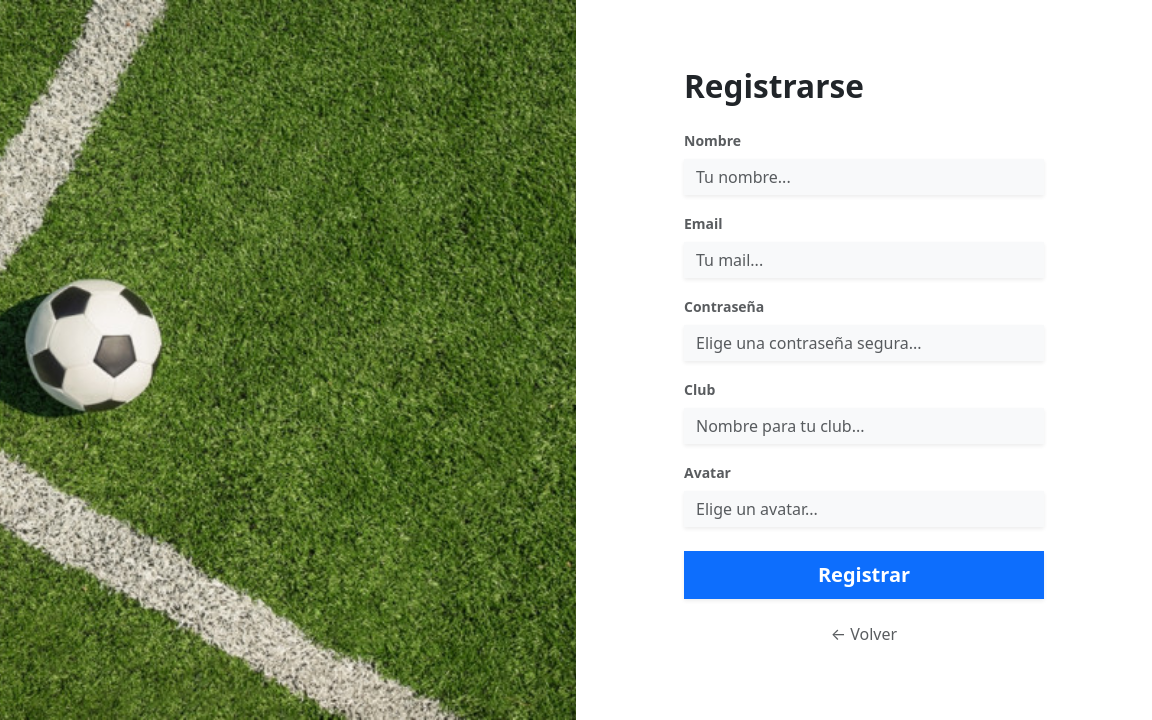
Test: FormRegistro › registra correctamente un usuario
This screenshot has width=1152, height=720.
Type "Joel" into the field labelled "Nombre" at x=864, y=177, box [684, 159, 1044, 195]
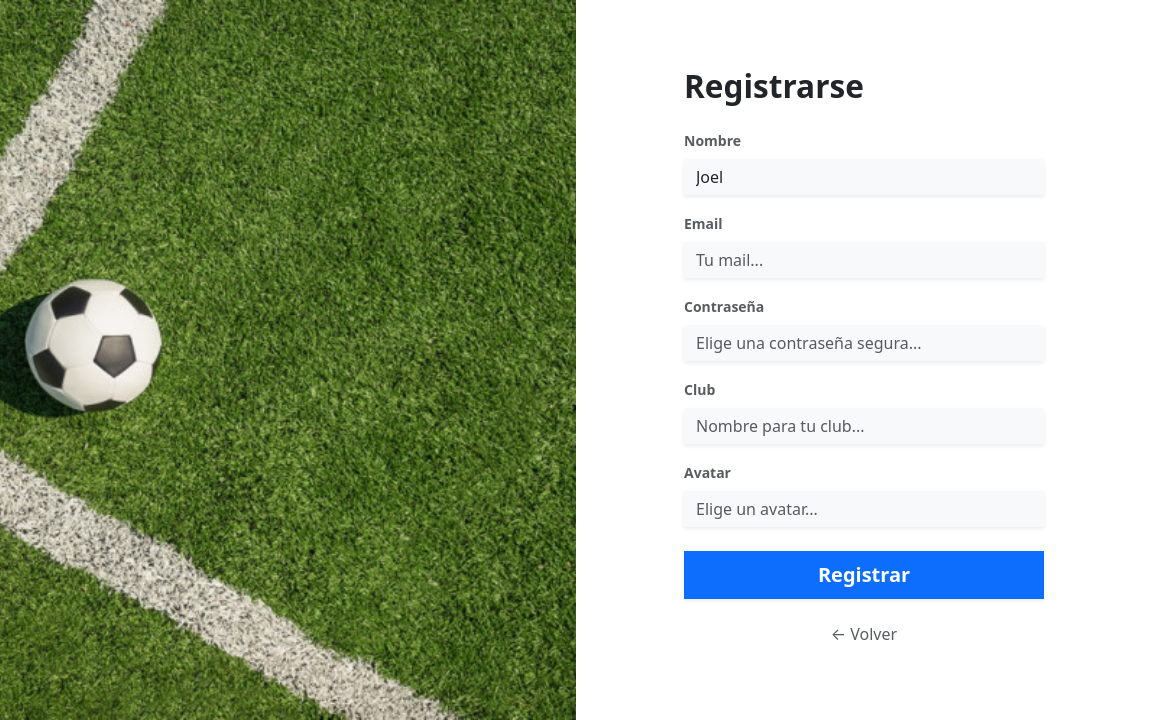
Type "joel@gmail.com" into the field labelled "Email" at x=864, y=260, box [684, 242, 1044, 278]
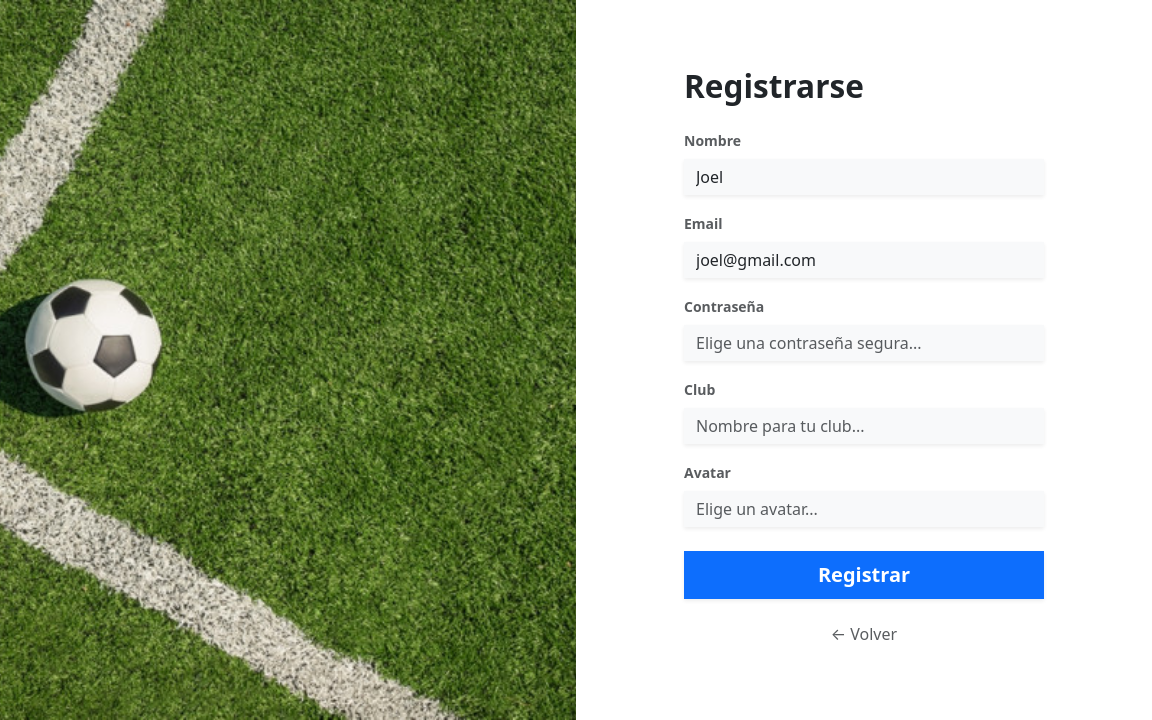
Type "123456" into the password field labelled "Contraseña" at x=864, y=343, box [684, 325, 1044, 361]
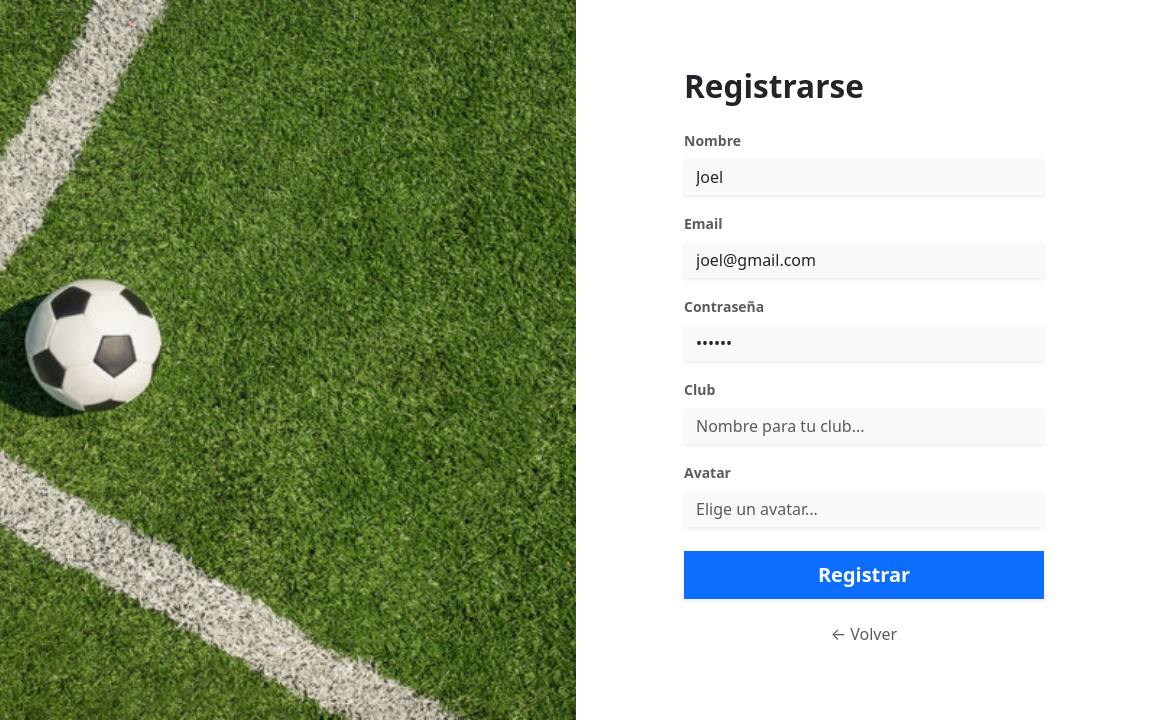
Type "Barcelona" into the field labelled "Club" at x=864, y=426, box [684, 408, 1044, 444]
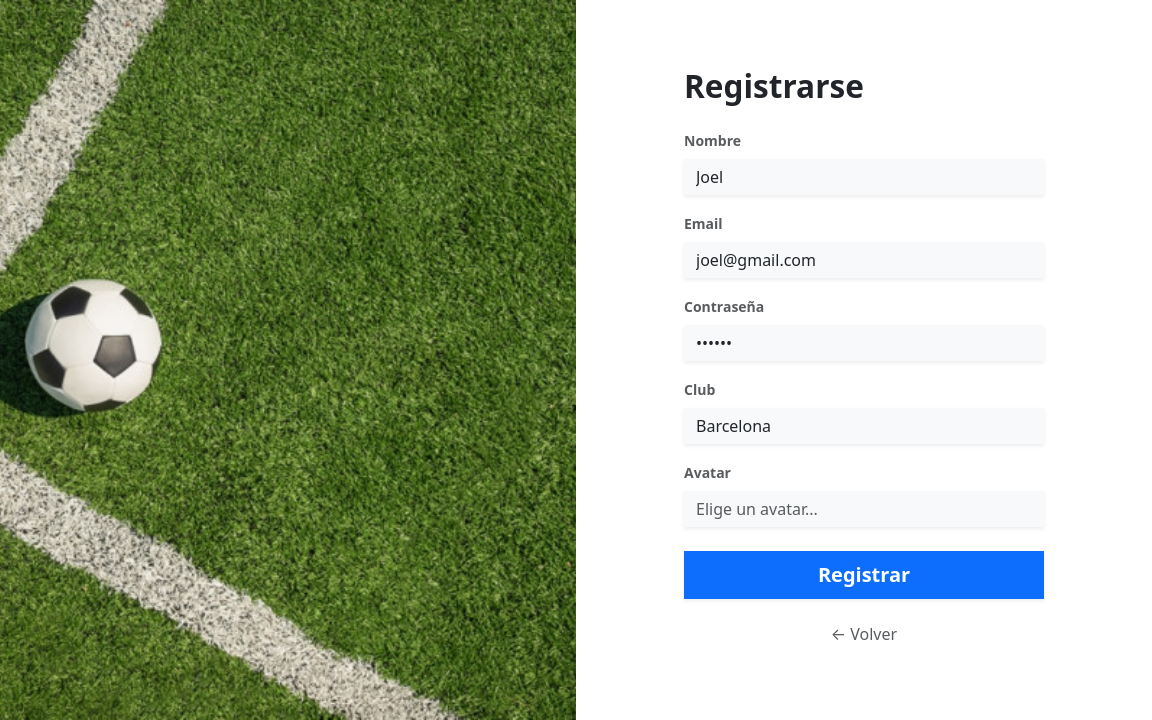
Type "avatar.png" into the field labelled "Avatar" at x=864, y=509, box [684, 491, 1044, 527]
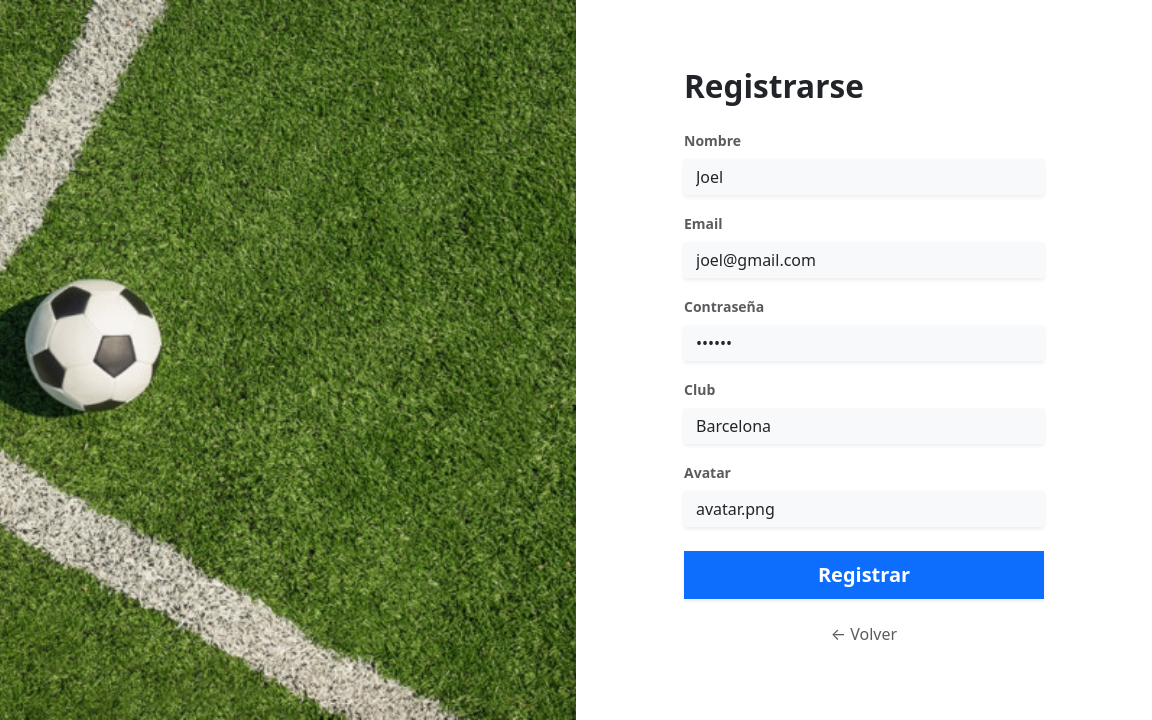
Click the button "Registrar" at x=864, y=575, box [684, 551, 1044, 599]
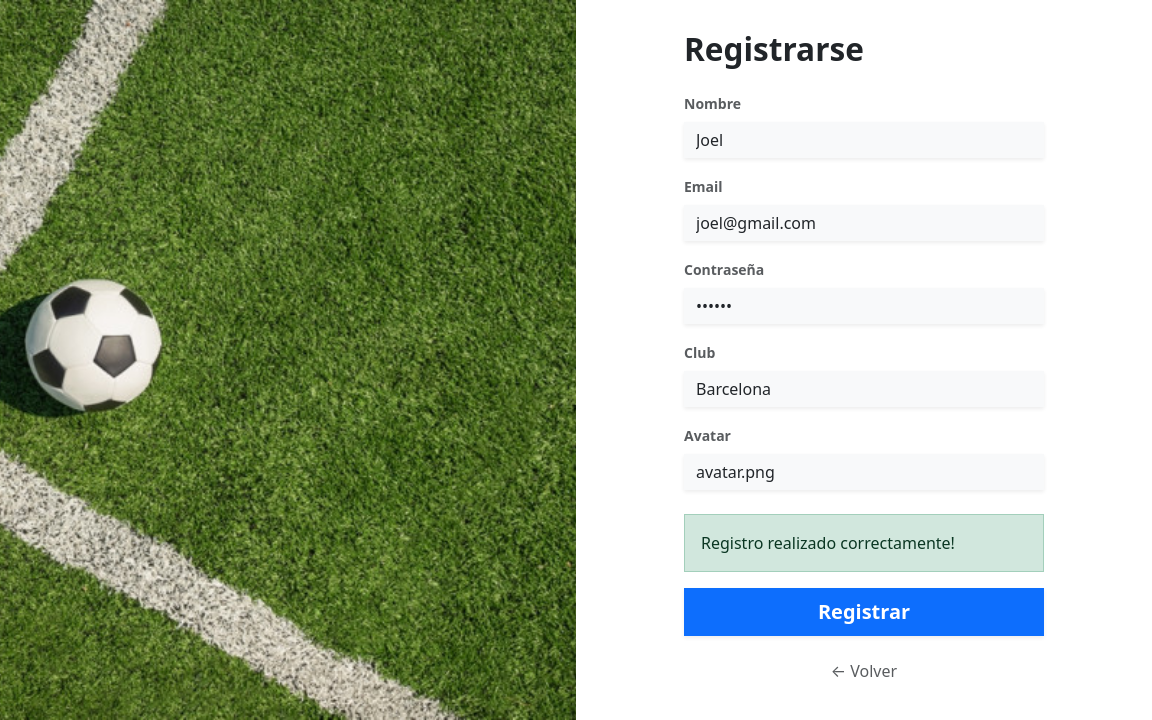
Expected: the text "Registro realizado correctamente!" is shown, [684, 514, 1044, 572]
